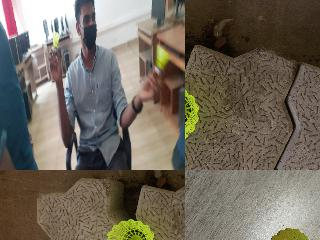shuttlecock: (105, 219, 155, 239), (185, 85, 199, 143), (268, 227, 319, 239), (50, 29, 60, 52)
